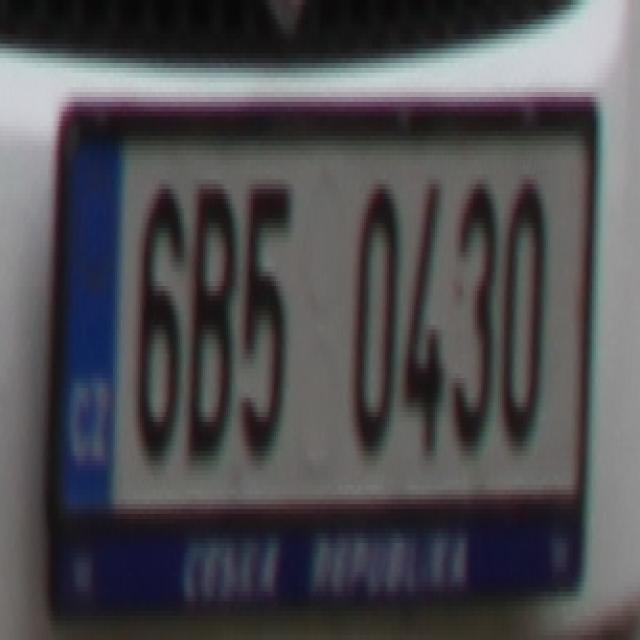0: (345, 184, 397, 461), (498, 180, 548, 442)
3: (452, 175, 497, 446)
4: (398, 174, 448, 460)
5: (240, 165, 290, 446)
6: (132, 170, 178, 451)
B: (182, 174, 238, 466)
